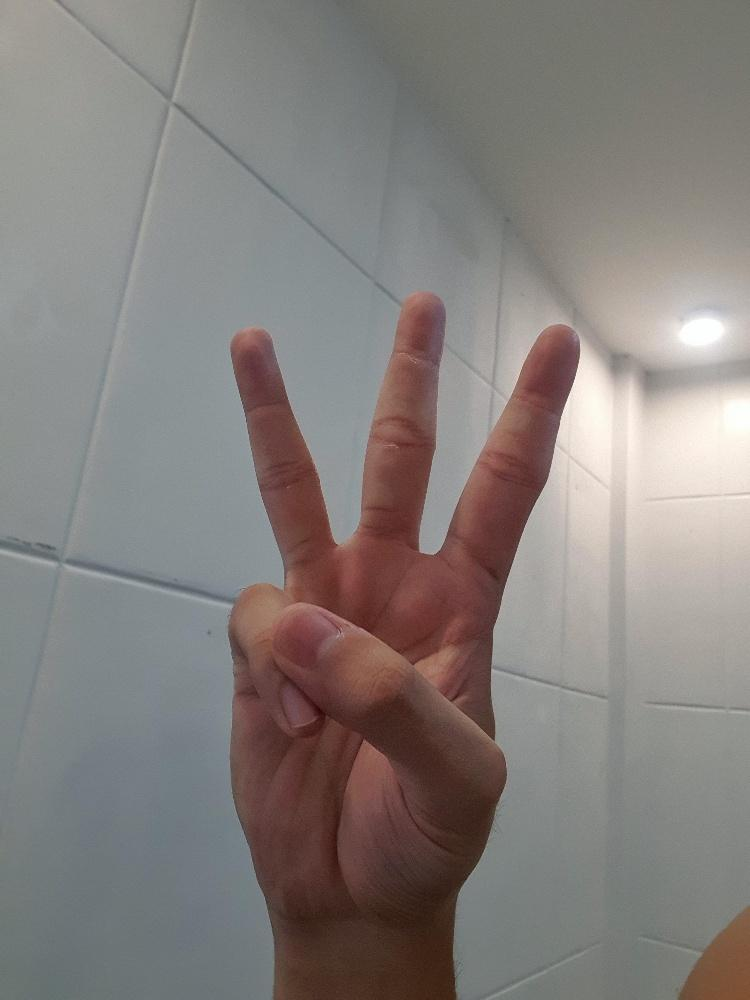w: (221, 284, 584, 934)
